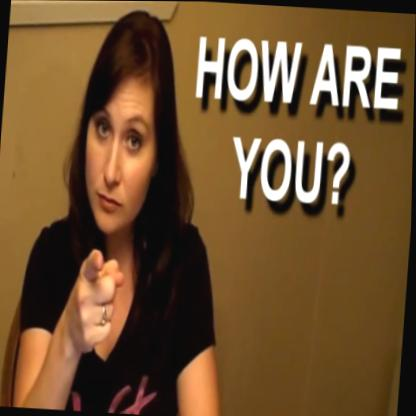HowAreYou: (54, 231, 147, 369)
